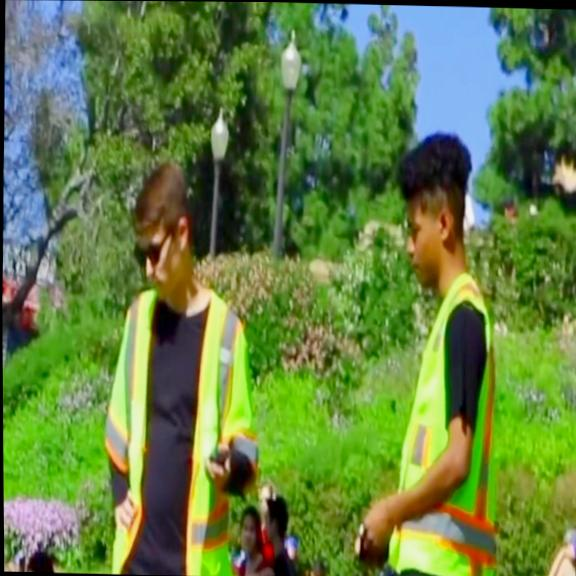safety_vest: (104, 282, 262, 576), (385, 265, 497, 576)
